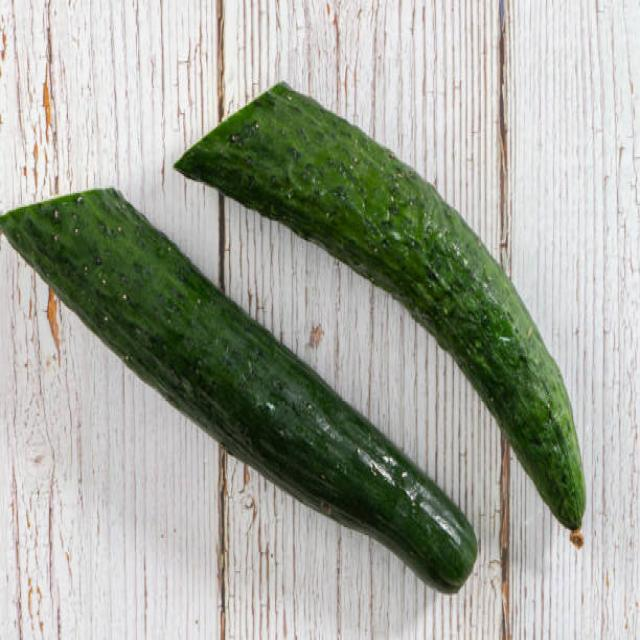cucumber: (0, 184, 479, 596), (175, 80, 584, 532)
